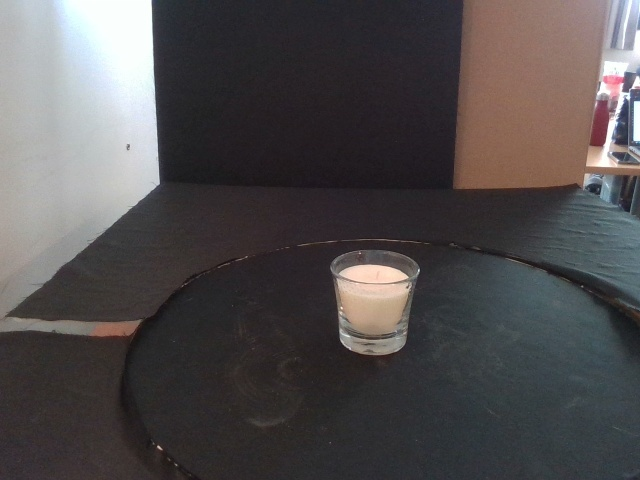candle: (329, 249, 422, 357)
